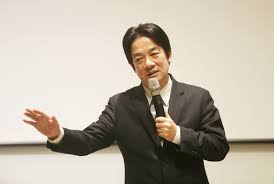hand: (22, 107, 60, 139)
